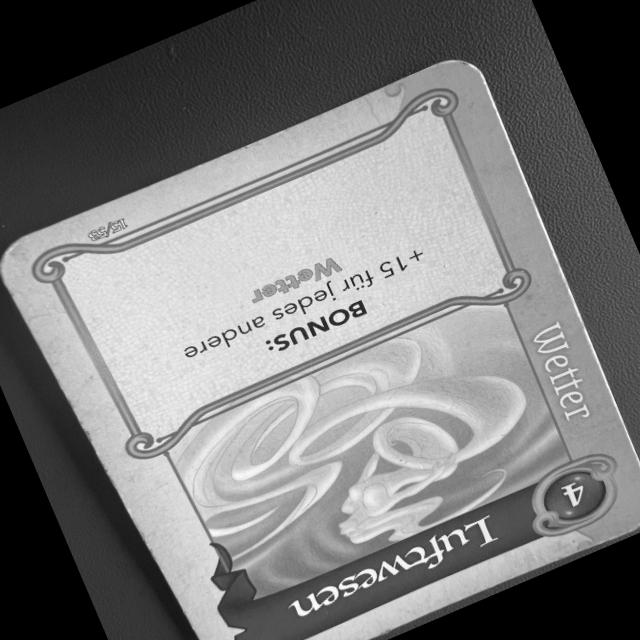Air Elemental: (0, 45, 640, 640)
